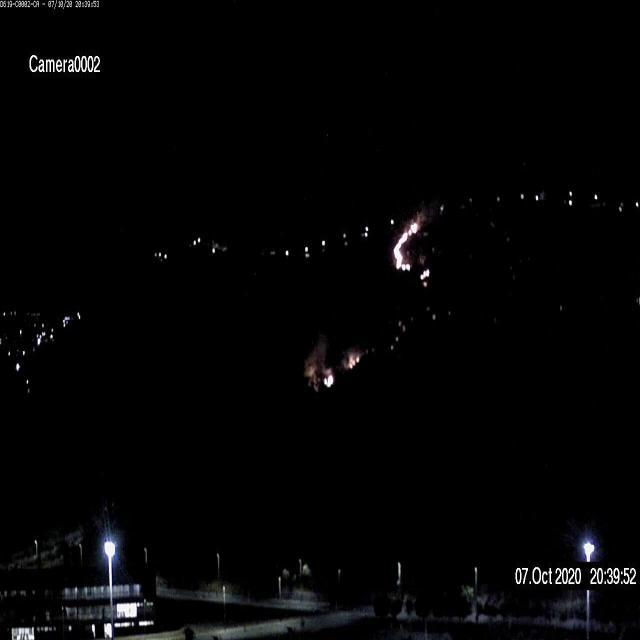Fire: (392, 216, 422, 273), (344, 350, 360, 370), (322, 368, 335, 388)
Smoke: (302, 336, 328, 391)
